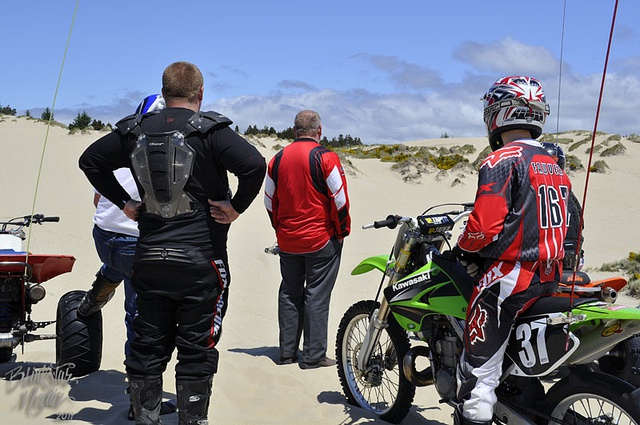non-vehicle: (335, 208, 640, 419), (1, 213, 105, 374)
